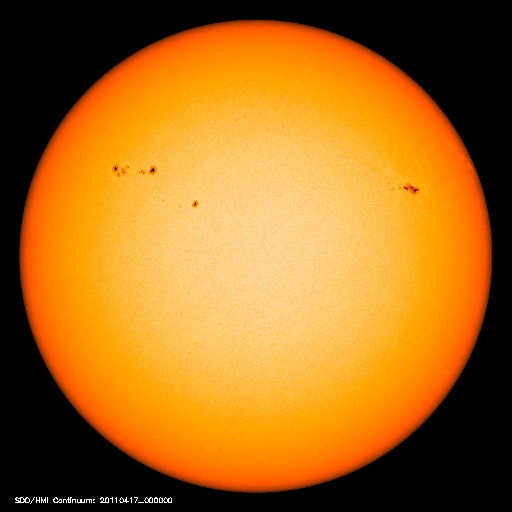sunspot: (105, 155, 165, 182), (393, 176, 426, 200), (181, 193, 208, 213)
